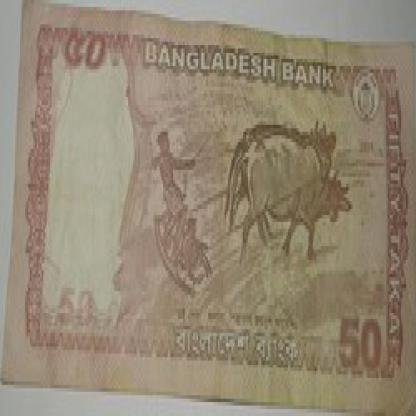Fifty taka: (330, 301, 394, 384), (58, 21, 120, 100)
